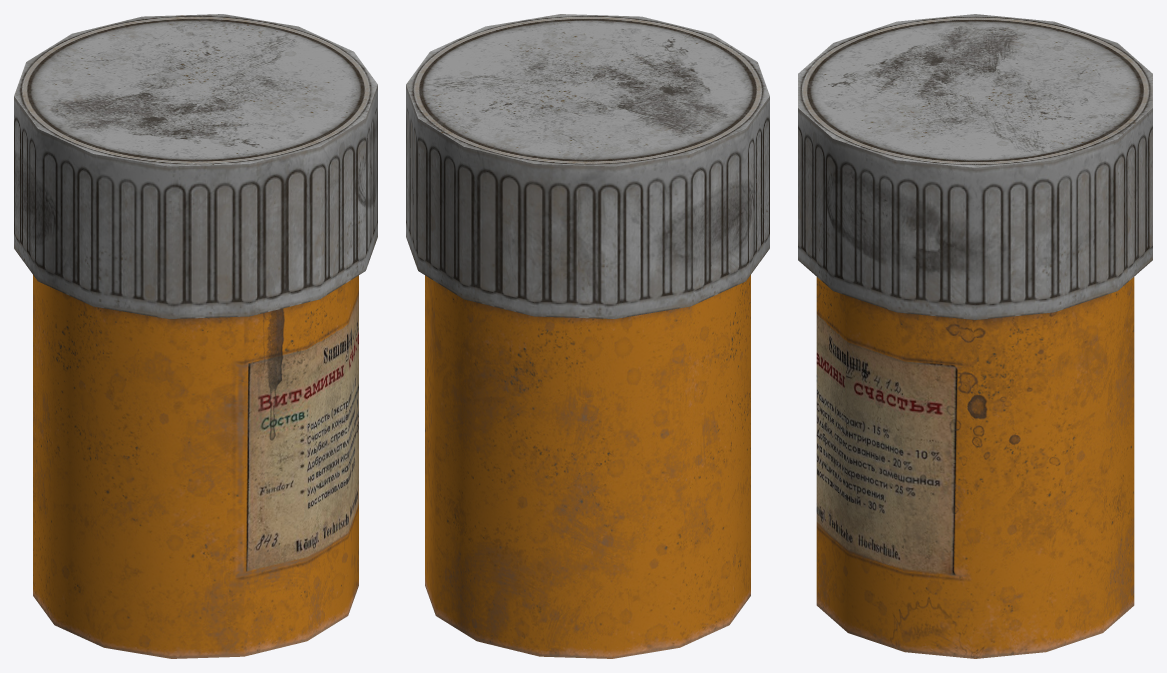
File: covid_pills.glb
3 views of the same model, side by side, from view 1: azimuth 30°, elevation 25°; view 2: azimuth 150°, elevation 25°; view 3: azimuth 270°, elevation 25° (orthographic).
Visible parts, largest first — view 1: g; view 2: g; view 3: g.
Boxes of the visible parts, bbox=[...] form: g: bbox=[14, 14, 377, 658]; g: bbox=[406, 14, 769, 658]; g: bbox=[798, 14, 1152, 658].
Size of the model in its own units: 0.0971 by 0.147 by 0.0947.
Materials: 1 (1 with a texture image).
